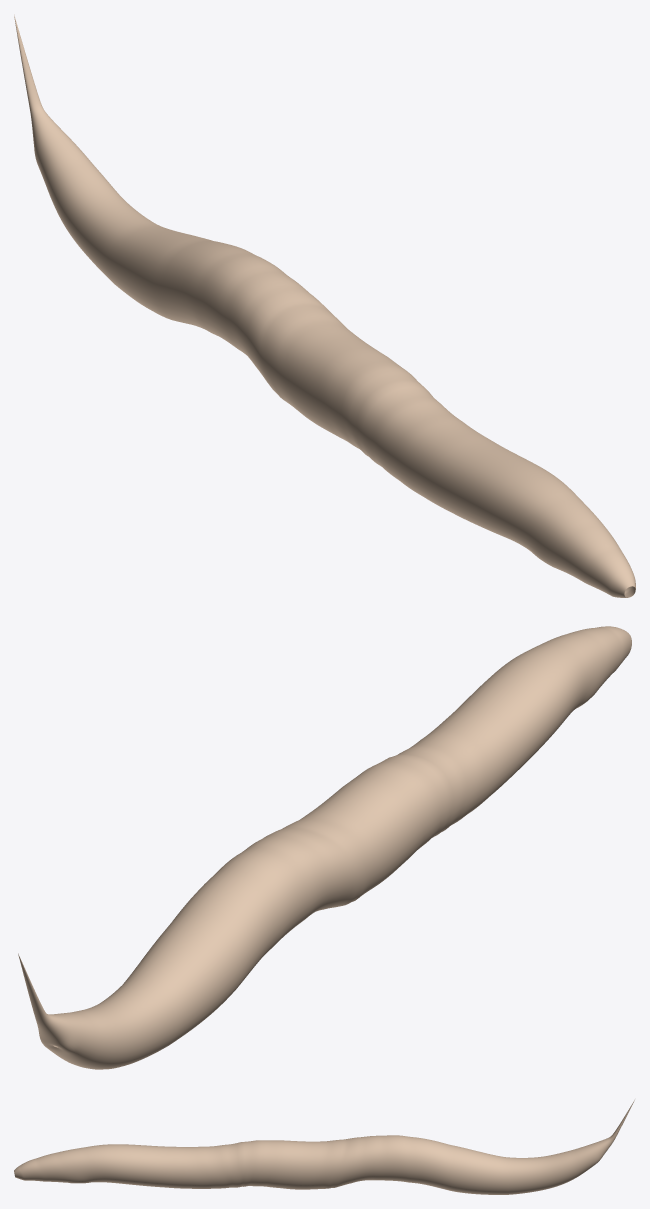
Rendered from worm-cuticle.obj.
3 renders of one model, top to bottom at view 1: azimuth 30°, elevation 25°; view 2: azimuth 150°, elevation 25°; view 3: azimuth 270°, elevation 25°, orthographic. The views are drawn at different scales.
Parts seen in each view (by area): view 1: Cuticle; view 2: Cuticle; view 3: Cuticle.
Boxes of the visible parts, left/top/right/bottom form: Cuticle: left=14, top=14, right=635, bottom=597; Cuticle: left=18, top=626, right=631, bottom=1069; Cuticle: left=14, top=1100, right=634, bottom=1194.
Bounding box in the file's own units: 0.6273 × 1.29 × 7.69.
